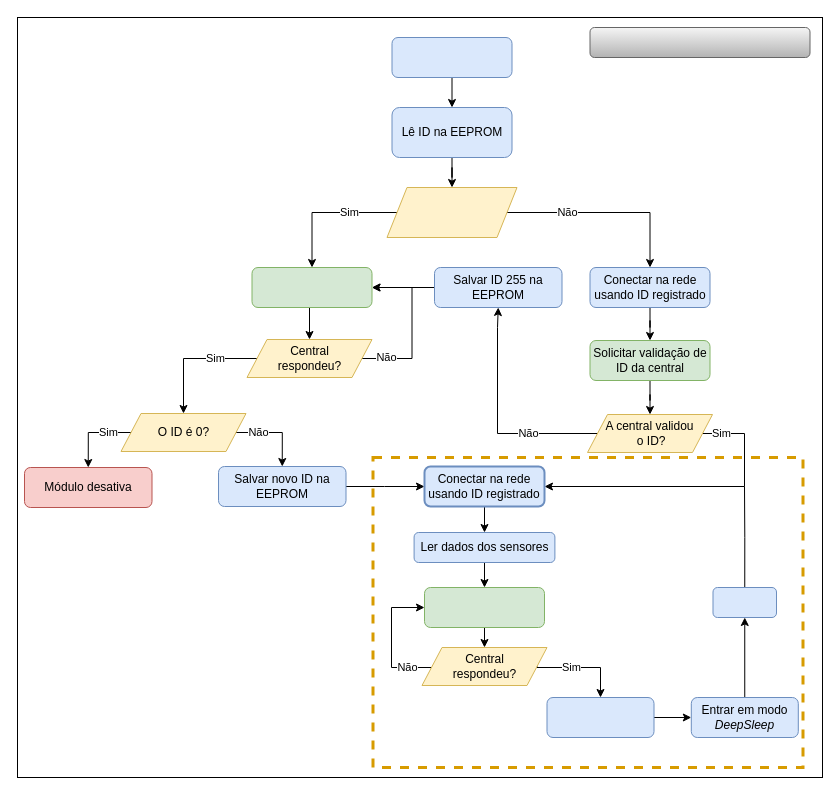
Image size: 840x795. Some labels were removed from this diagram. Here are the shapes that lost their labels. From the top down, the centre of each, then its label:
At [451,57]: "Módulo Liga".
At [699,42]: "Main Loop do Módúlos Periféricos".
At [451,212]: "ID é 255?".
At [311,287]: "Solicitar novo ID da central".
At [484,607]: "Enviar dados para a central".
At [744,602]: "Acordar".
At [600,717]: "Liberar endereço alocado pela rede".
